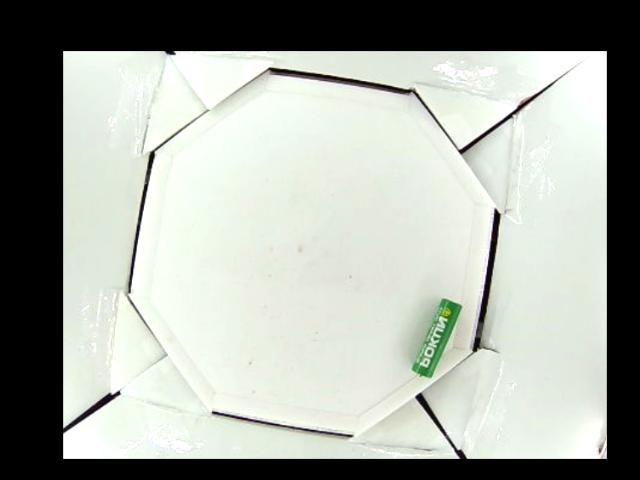Battery: (411, 298, 460, 379)
